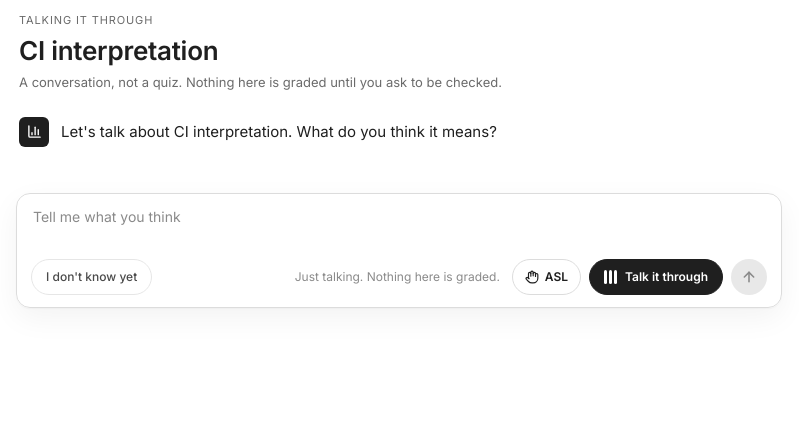
Test this concept, as a conversation › never shows quick replies that could be answers to the tutor's question
Type "an interval" into the text box with placeholder "Tell me what you think" at (399, 228), box x1=31 y1=206 x2=767 y2=250
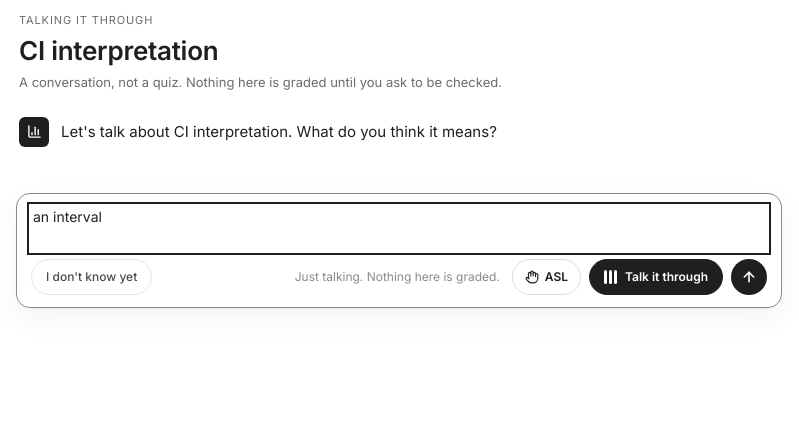
Click the button named "Send" at (749, 276), box x1=731 y1=258 x2=767 y2=294
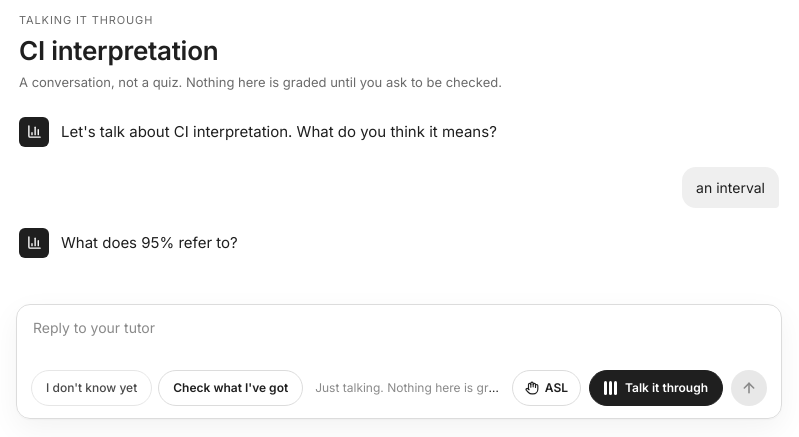
Check: the text "What does 95% refer to?" is shown, box x1=61 y1=232 x2=238 y2=252
